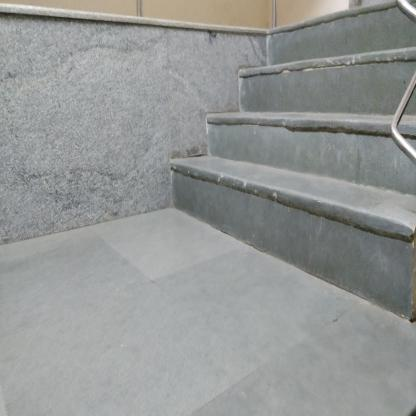stairs: (240, 65, 380, 302)
